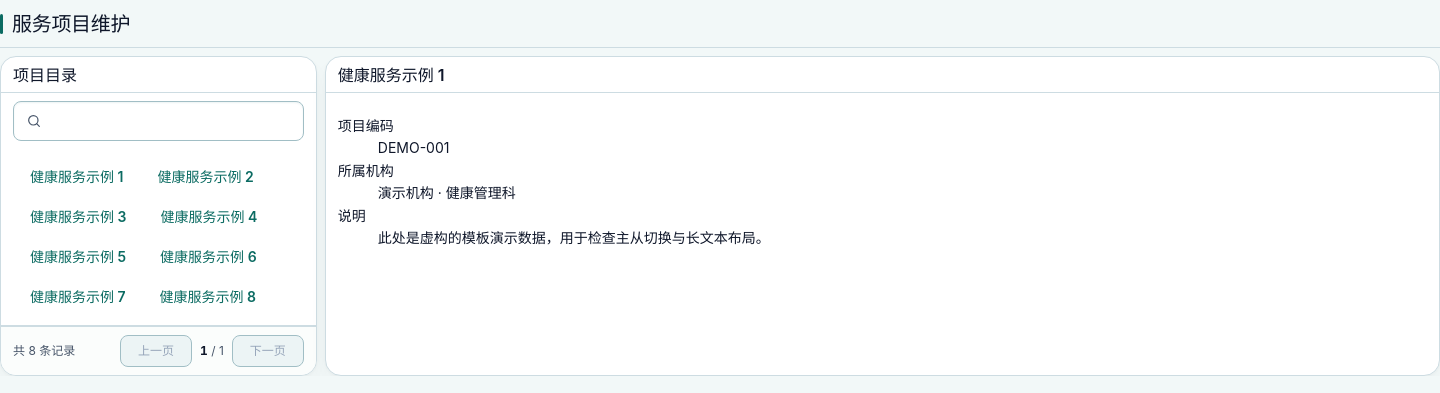
page template examples › switches the selected object while retaining a single page heading
The image size is (1440, 393).
Click the button "健康服务示例 2" at (206, 177), box [140, 157, 271, 197]
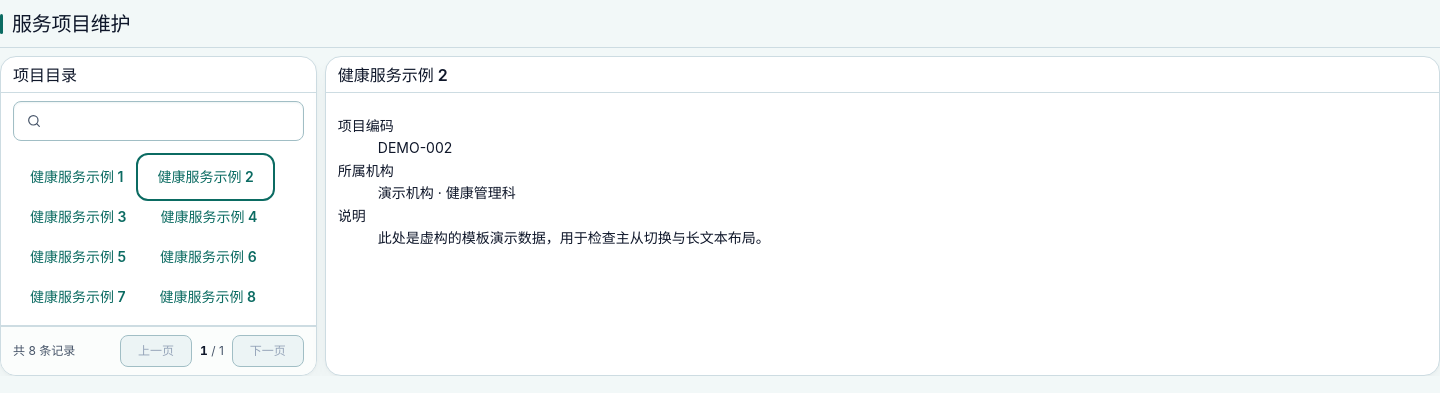
Result: the heading "健康服务示例 2" is shown at [338, 62, 448, 86]
